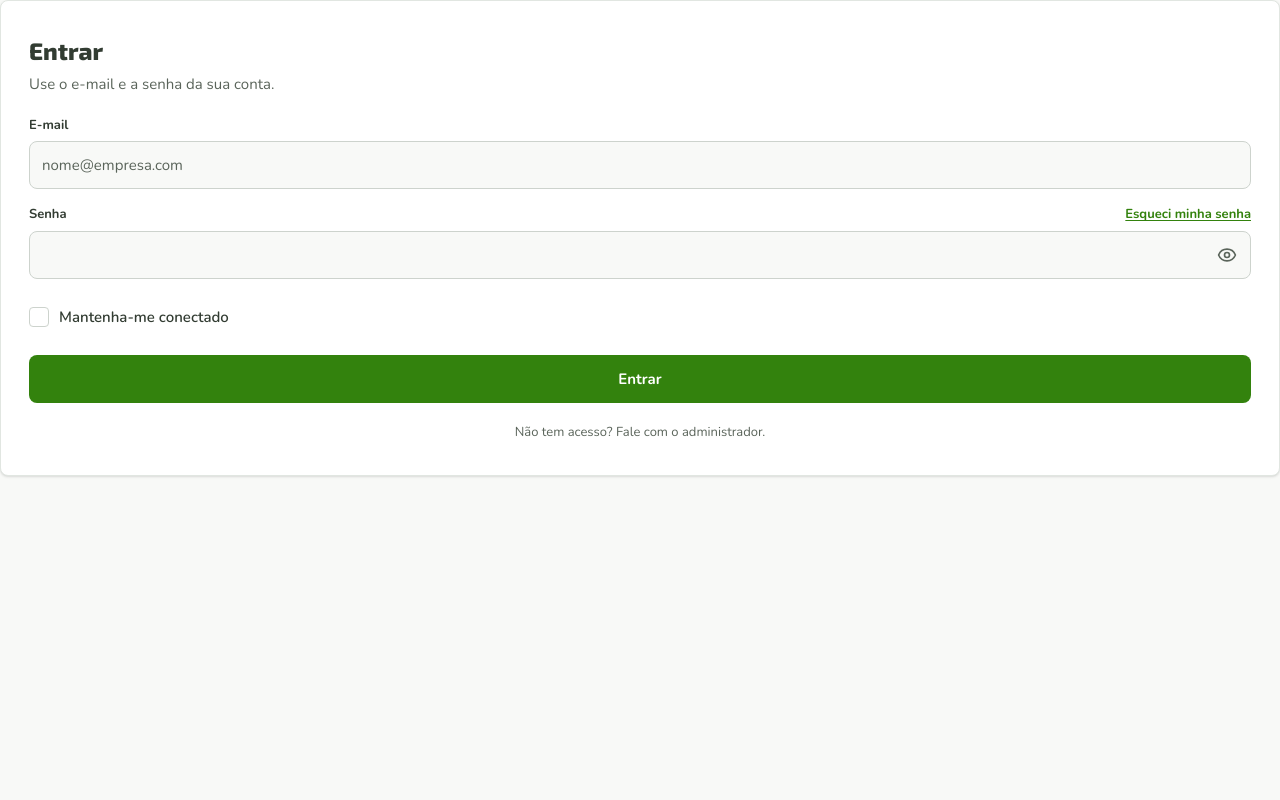
it: LoginForm › shows 15 minutes and disables the button on 429 with Retry-After 900
Type "a@b.co" into the field labelled "E-mail" at (640, 165), box [29,141,1251,189]
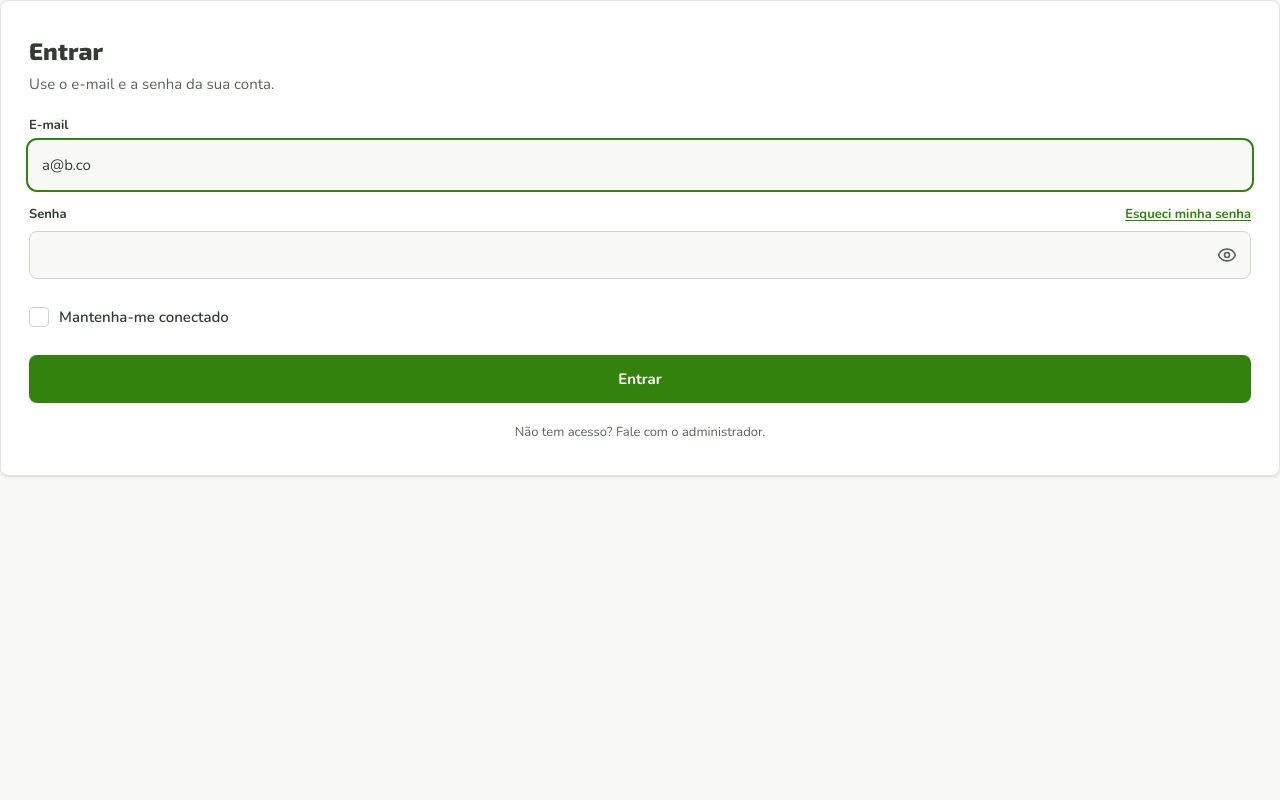
Type "secret" into the password field labelled "Senha" at (640, 255), box [29,231,1251,279]
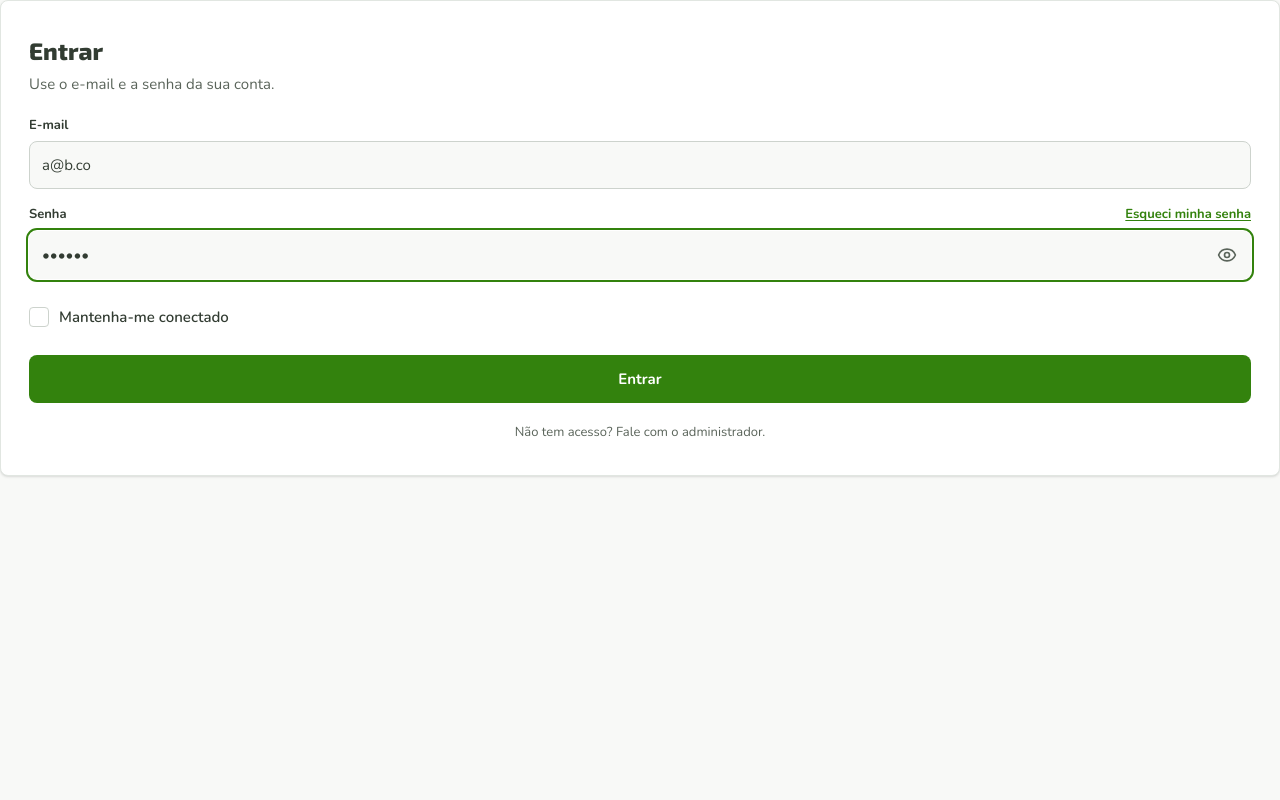
Click the button "Entrar" at (640, 379), box [29,355,1251,403]
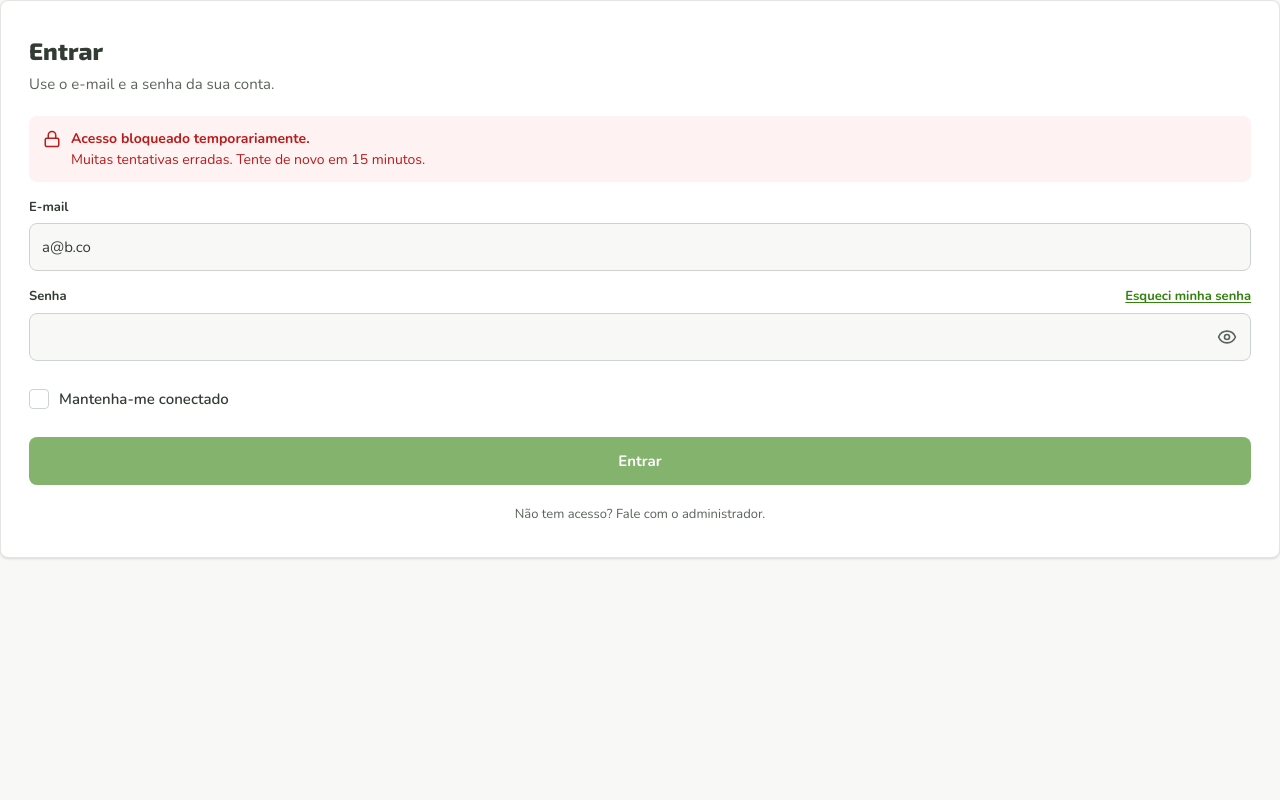
Expected: the text "15 minutos" is shown, [71,150,425,168]
Expected: the button "Entrar" is disabled, [29,437,1251,485]
